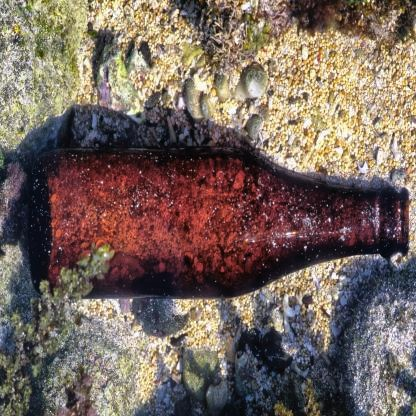gbottle: (26, 148, 408, 302)
